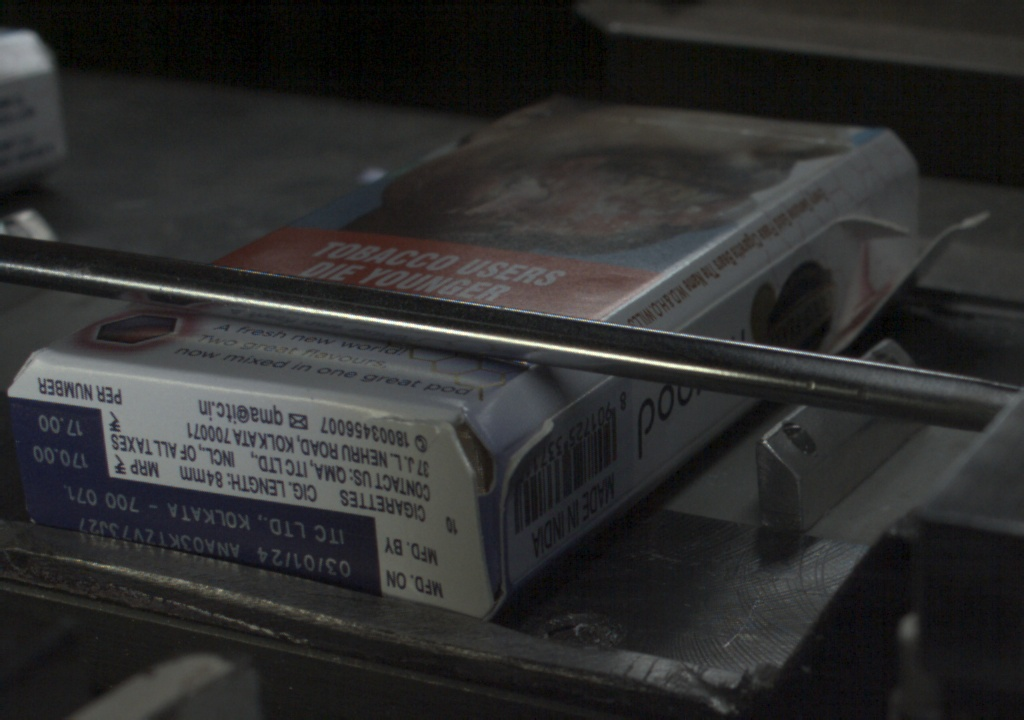g_label: (18, 475, 381, 597)
g_lmiter: (704, 242, 805, 317)
ng_bottom: (420, 411, 496, 607)
ng_lmiter: (493, 417, 555, 491), (831, 211, 911, 250)
ng_miter: (907, 180, 973, 278)
price: (13, 408, 104, 474)
